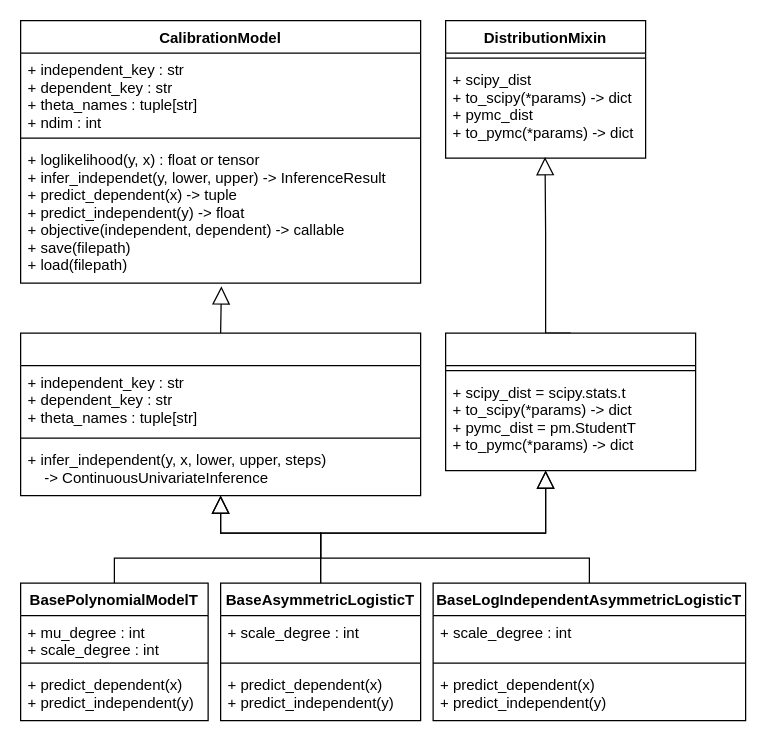
Image size: 766x741. Some labels were removed from this diagram. The box of each missing label's shape, as (x1, y1, x2, y2) in pixels:
ContinuousUnivariateModel: (19, 332, 421, 496)
StudentTNoise: (444, 332, 696, 471)
